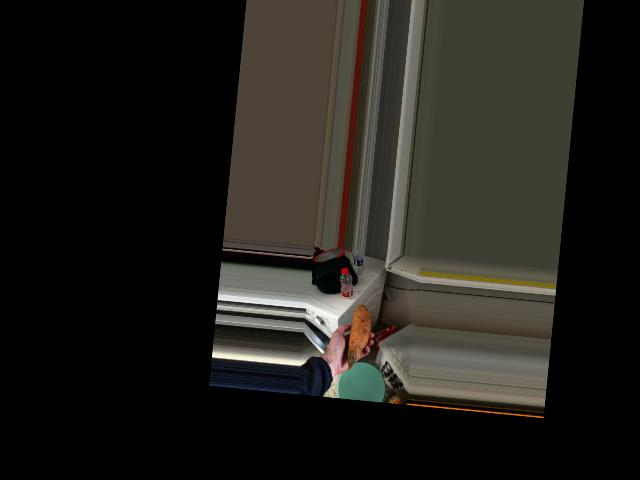sweet_potato: (346, 310, 372, 367)
